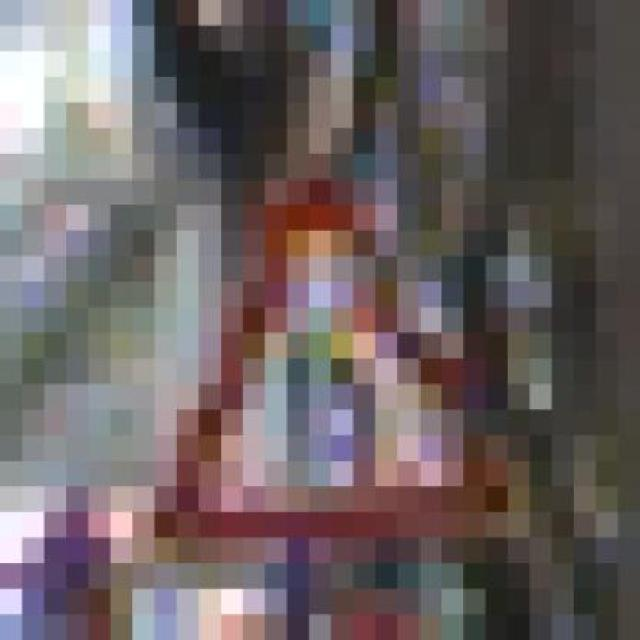-Road narrows on right: (110, 128, 530, 538)
